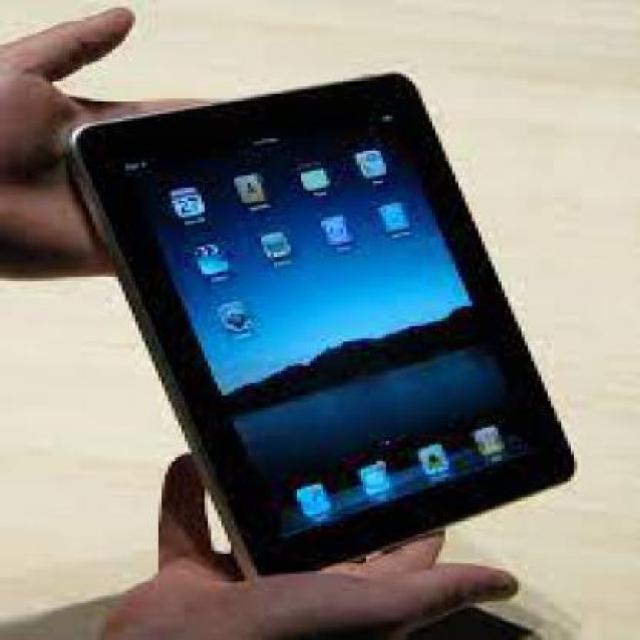tablet: (48, 72, 617, 549)
